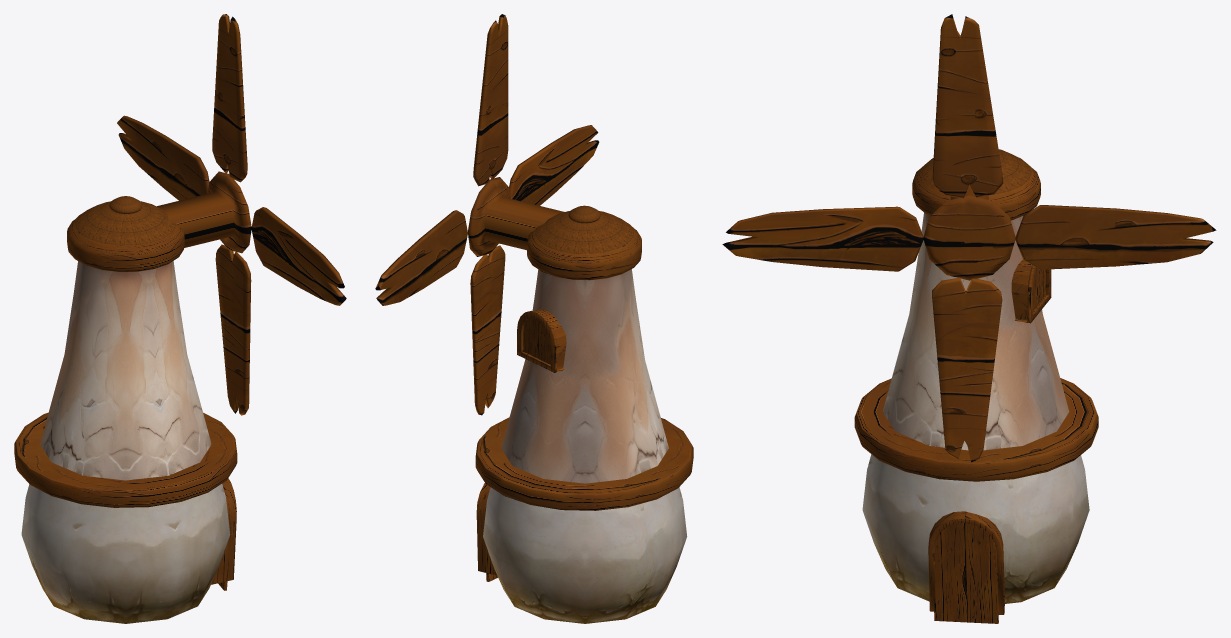
Rendered from tower.fbx.
3 renders of one model, left to right at view 1: azimuth 30°, elevation 25°; view 2: azimuth 150°, elevation 25°; view 3: azimuth 270°, elevation 25°, orthographic. The views are drawn at different scales.
Parts seen in each view (by area): view 1: tower1; view 2: tower1; view 3: tower1.
Part boxes in pixels (<box>): tower1: <box>14,14,346,623</box>; tower1: <box>375,14,693,623</box>; tower1: <box>722,14,1216,623</box>.
Size of the model in its own units: 6.84 by 17.87 by 13.03.
Materials: 3 (3 with a texture image).
